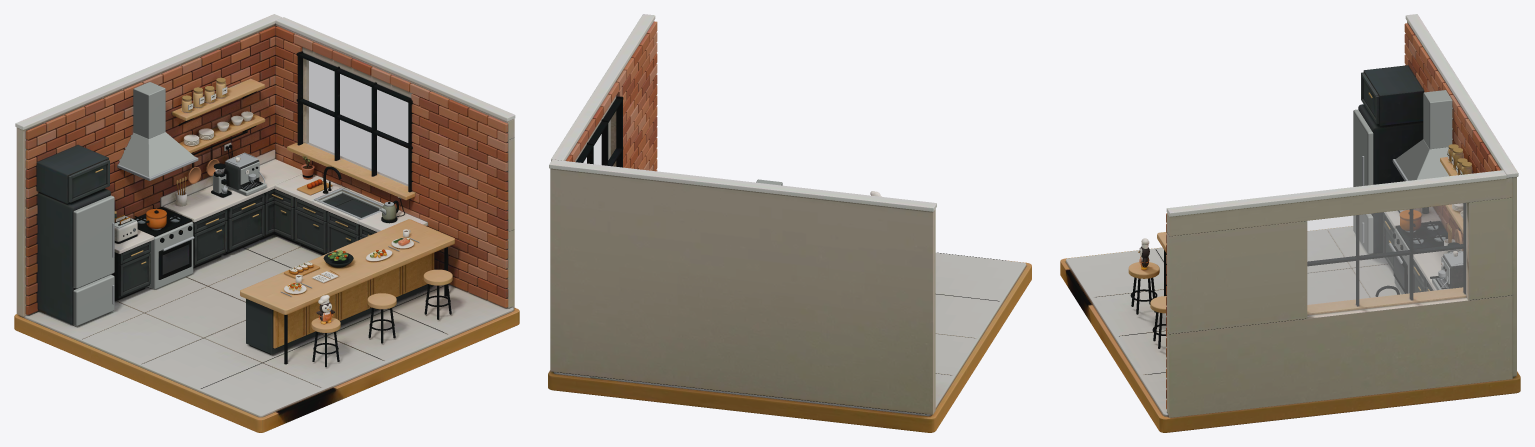
Rendered from brick-kitchen.glb.
3 renders of one model, left to right at view 1: azimuth 30°, elevation 25°; view 2: azimuth 150°, elevation 25°; view 3: azimuth 270°, elevation 25°, orthographic. The views are drawn at different scales.
Visible parts, largest first — view 1: Baked brick-kitchen architecture, Baked brick-kitchen details, Live glass and reflective metal; view 2: Baked brick-kitchen architecture, Baked brick-kitchen details; view 3: Baked brick-kitchen architecture, Live glass and reflective metal, Baked brick-kitchen details.
Part boxes in pixels (x1,y1,x2,y2): Baked brick-kitchen architecture: (14, 14, 519, 432); Baked brick-kitchen details: (25, 25, 508, 367); Live glass and reflective metal: (73, 60, 419, 326); Baked brick-kitchen architecture: (548, 14, 1031, 432); Baked brick-kitchen details: (566, 21, 881, 196); Baked brick-kitchen architecture: (1060, 14, 1520, 432); Live glass and reflective metal: (1307, 90, 1471, 316); Baked brick-kitchen details: (1128, 23, 1500, 409).
Bounding box in the file's own units: 16.87 × 8.63 × 16.39.
Materials: 9 (2 with a texture image).
